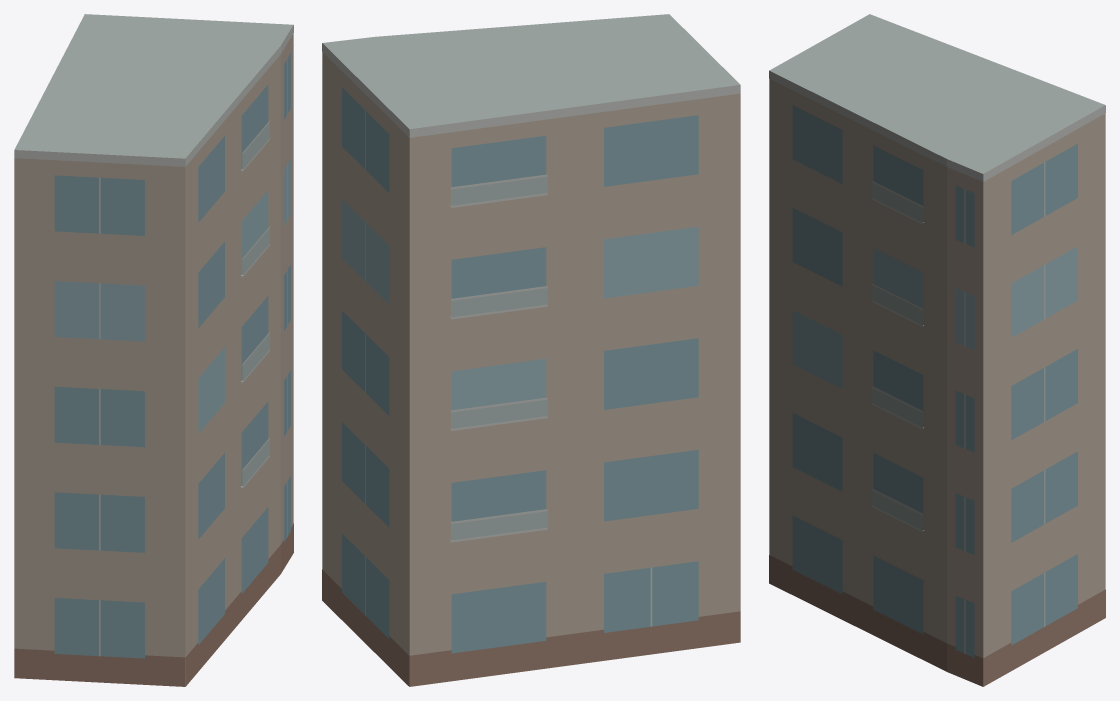
File: survey-upis-32464688.glb
3 views of the same model, side by side, from view 1: azimuth 30°, elevation 25°; view 2: azimuth 150°, elevation 25°; view 3: azimuth 270°, elevation 25° (orthographic). The views are drawn at different scales.
Visible parts, largest first — view 1: survey-upis-32464688.tmp; view 2: survey-upis-32464688.tmp; view 3: survey-upis-32464688.tmp.
Boxes of the visible parts, box(x1,y1,x2,y2) form: survey-upis-32464688.tmp: box(14, 14, 293, 686); survey-upis-32464688.tmp: box(322, 14, 740, 686); survey-upis-32464688.tmp: box(769, 14, 1105, 686).
Bounding box in the file's own units: 10.52 × 15.7 × 9.35.
